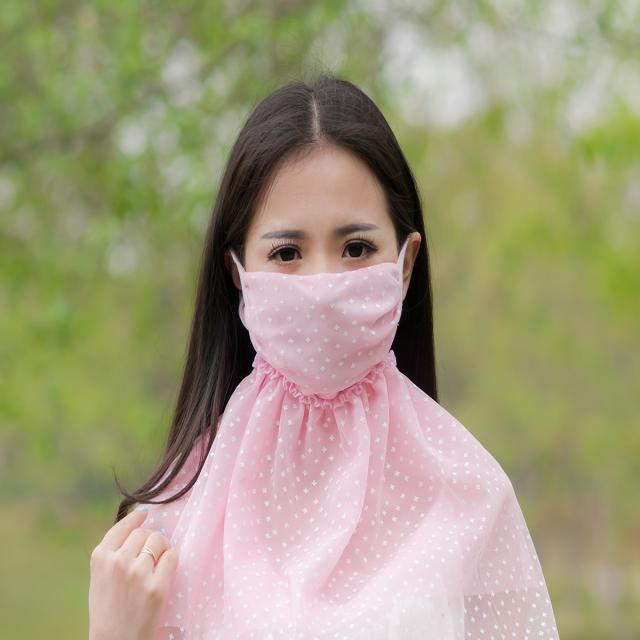mask: (241, 148, 403, 383)
